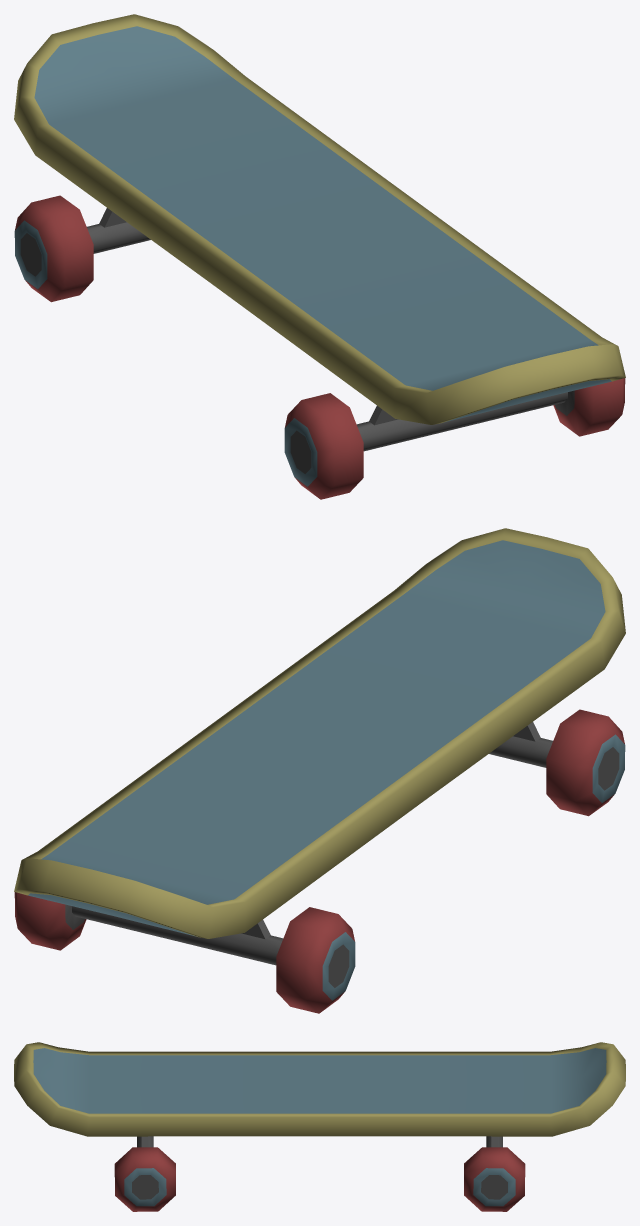
The model's file is skateboard.gltf.
The picture shows the model from 3 angles, top to bottom: view 1: azimuth 30°, elevation 25°; view 2: azimuth 150°, elevation 25°; view 3: azimuth 270°, elevation 25°; orthographic projection. The views are drawn at different scales.
Visible parts, largest first — view 1: Cube.001, Cylinder; view 2: Cube.001, Cylinder; view 3: Cube.001, Cylinder.
Part boxes in pixels (box(x1,y1,x2,y2)): Cube.001: box(14, 14, 625, 424); Cylinder: box(14, 195, 625, 499); Cube.001: box(14, 528, 625, 938); Cylinder: box(14, 709, 625, 1013); Cube.001: box(14, 1042, 625, 1136); Cylinder: box(114, 1136, 525, 1211).
Size of the model in its own units: 0.3719 by 0.1956 by 0.9898.
